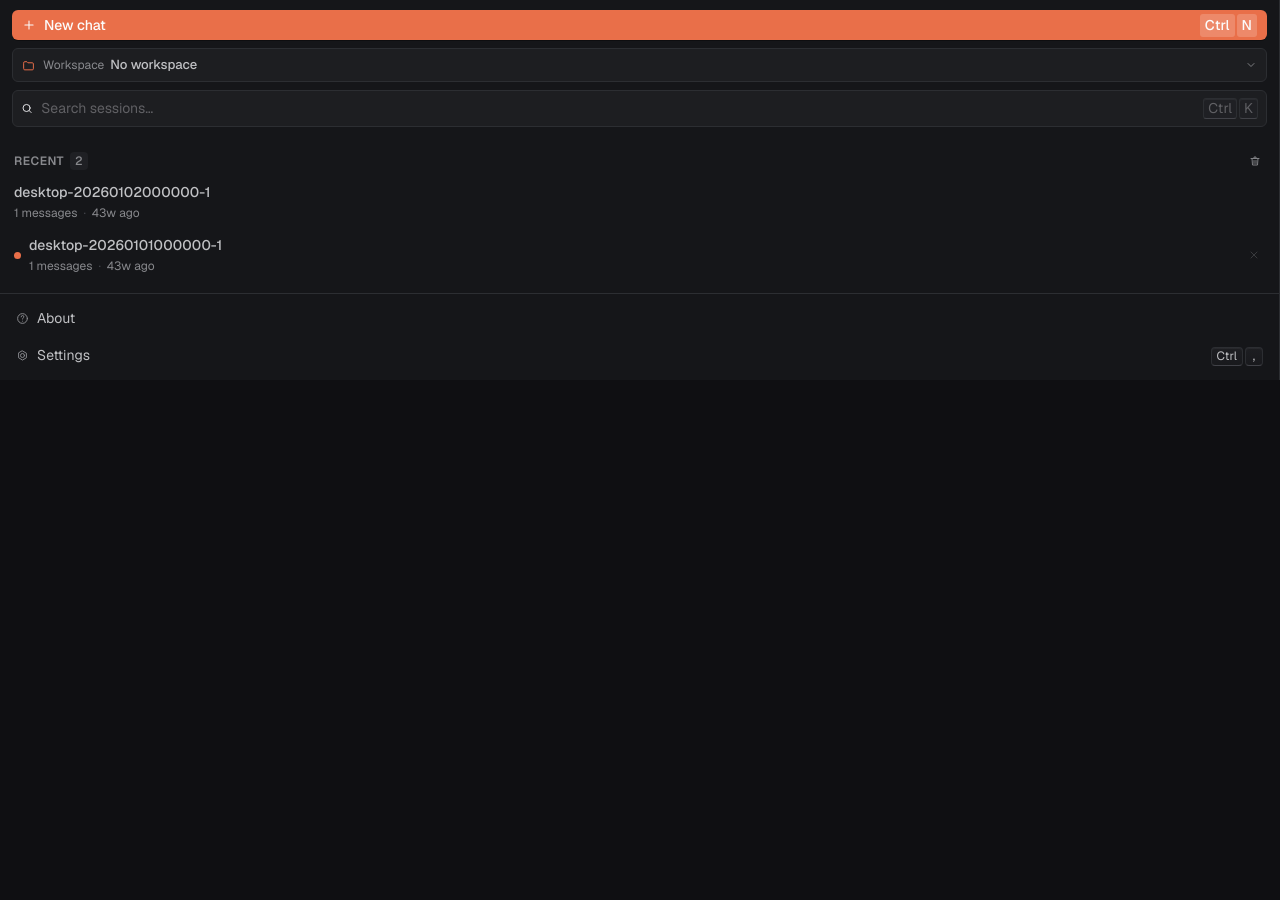
Test case: sidebar delete operators › tells the user how many running sessions a clear-all keeps
The width and height of the screenshot is (1280, 900).
Step 1. Click the button named "Clear all sessions" → (1255, 161), box [1245, 151, 1265, 171]
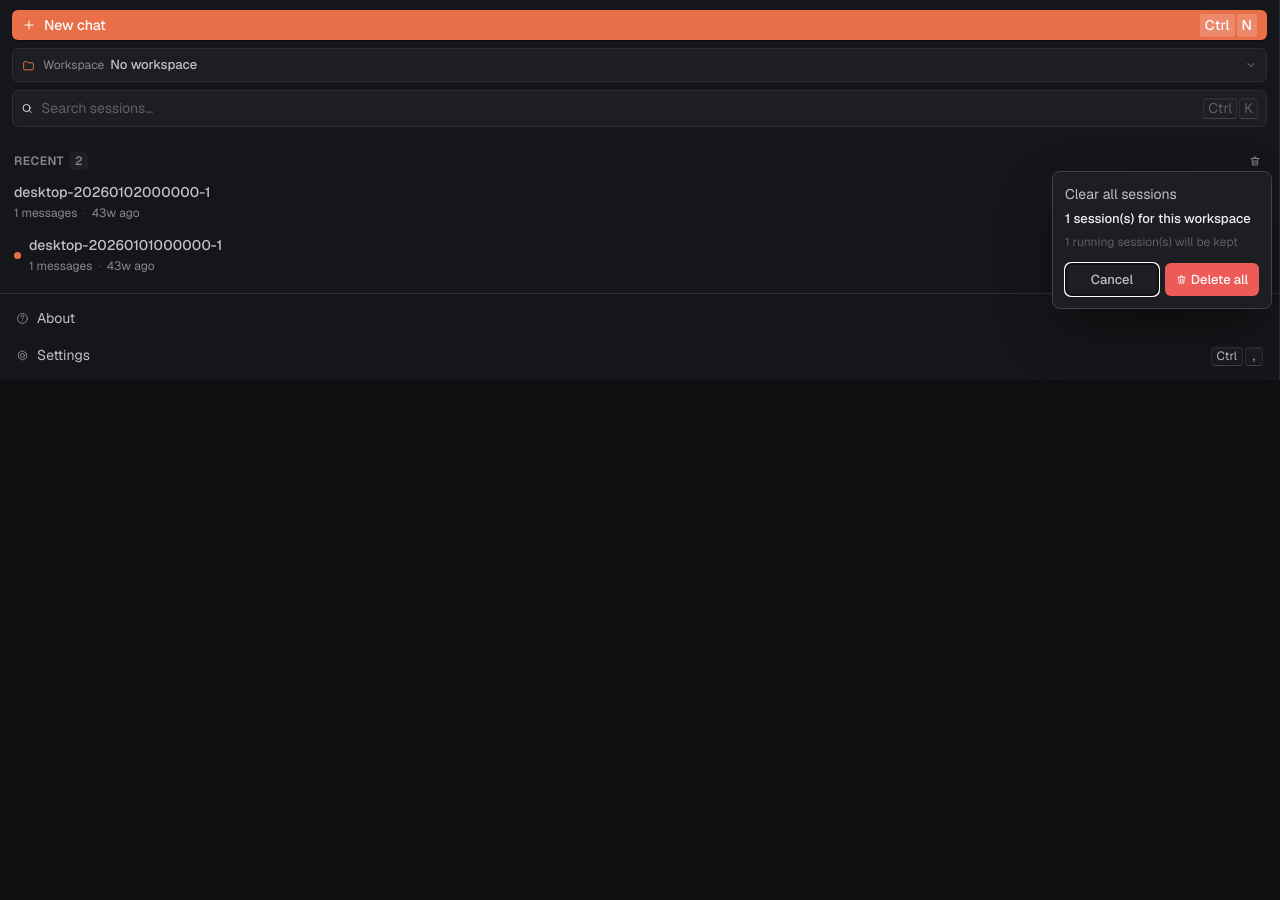
Expected: the text with class "name" reads "1 session(s) for this workspace", [1065, 210, 1251, 227]
Expected: the text with class "note" reads "1 running session(s) will be kept", [1065, 234, 1238, 250]
